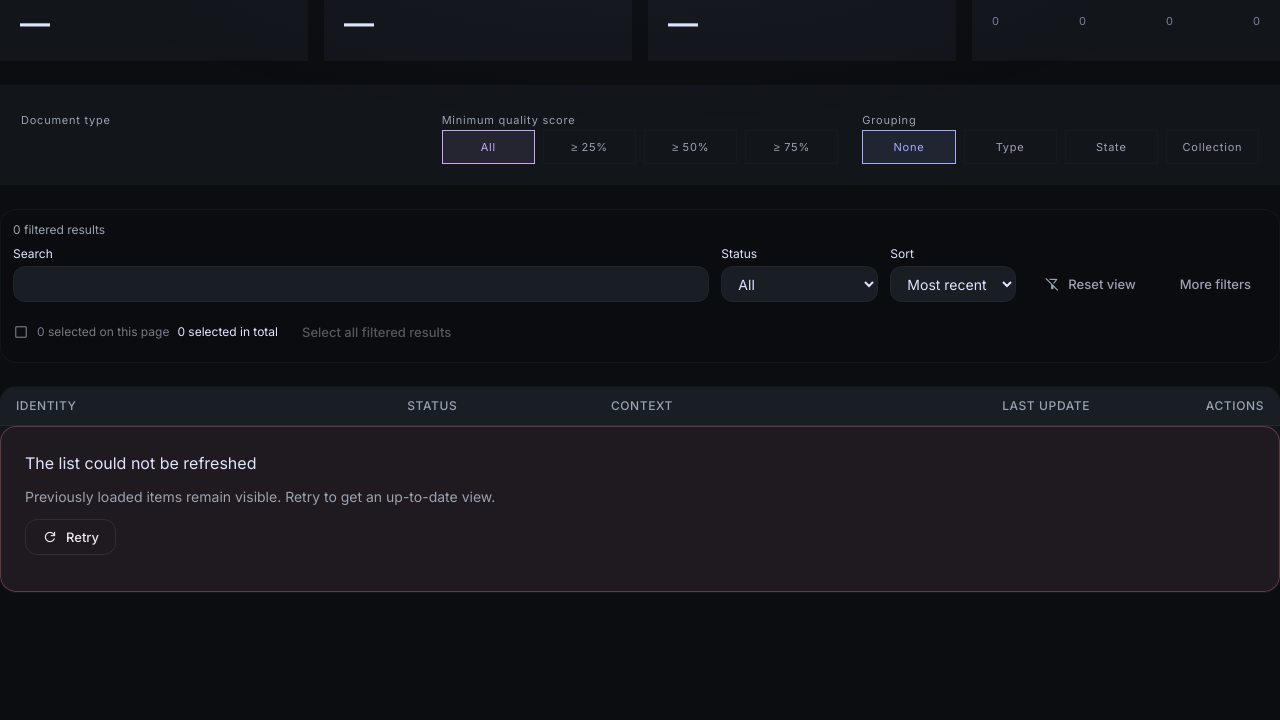
shows an error instead of an empty corpus and retries the list
The image size is (1280, 720).
(page scrolled)
Expected: the message that starts with "The list could not be refreshed" is shown, [25,453,256,473]
Click the button "Retry" at (70, 537), box [25,519,116,555]
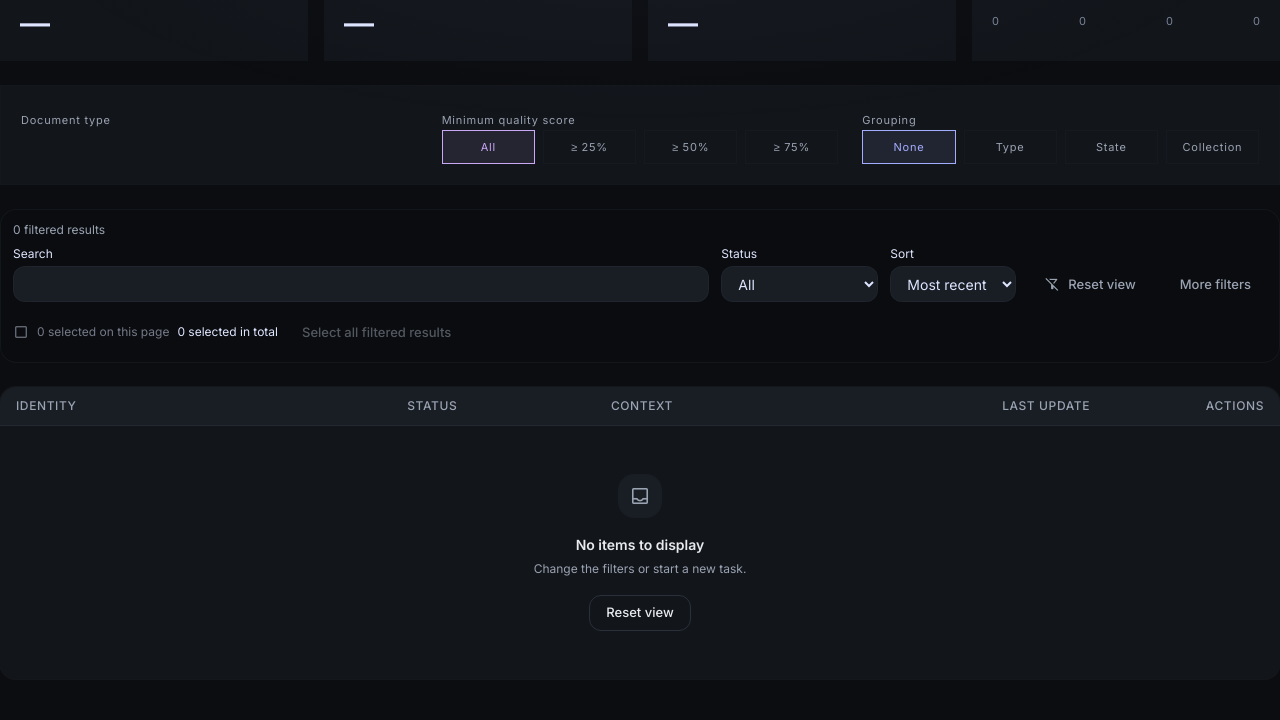
Now the heading "No items to display" is shown, box [576,534,704,555]
